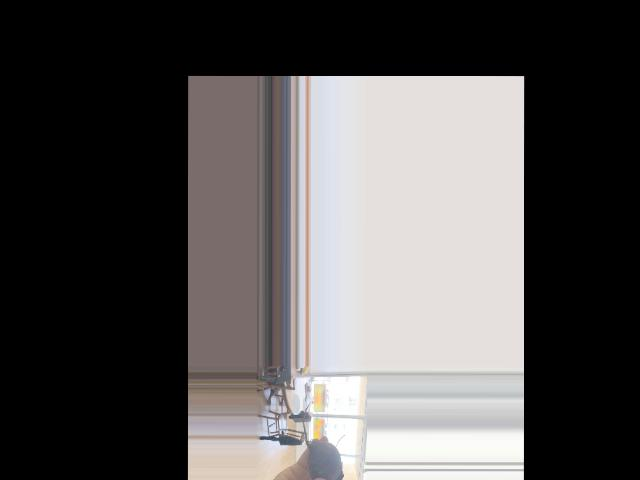beet: (302, 403, 344, 480)
